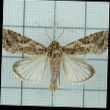Spodoptera litura: (2, 20, 108, 91)
